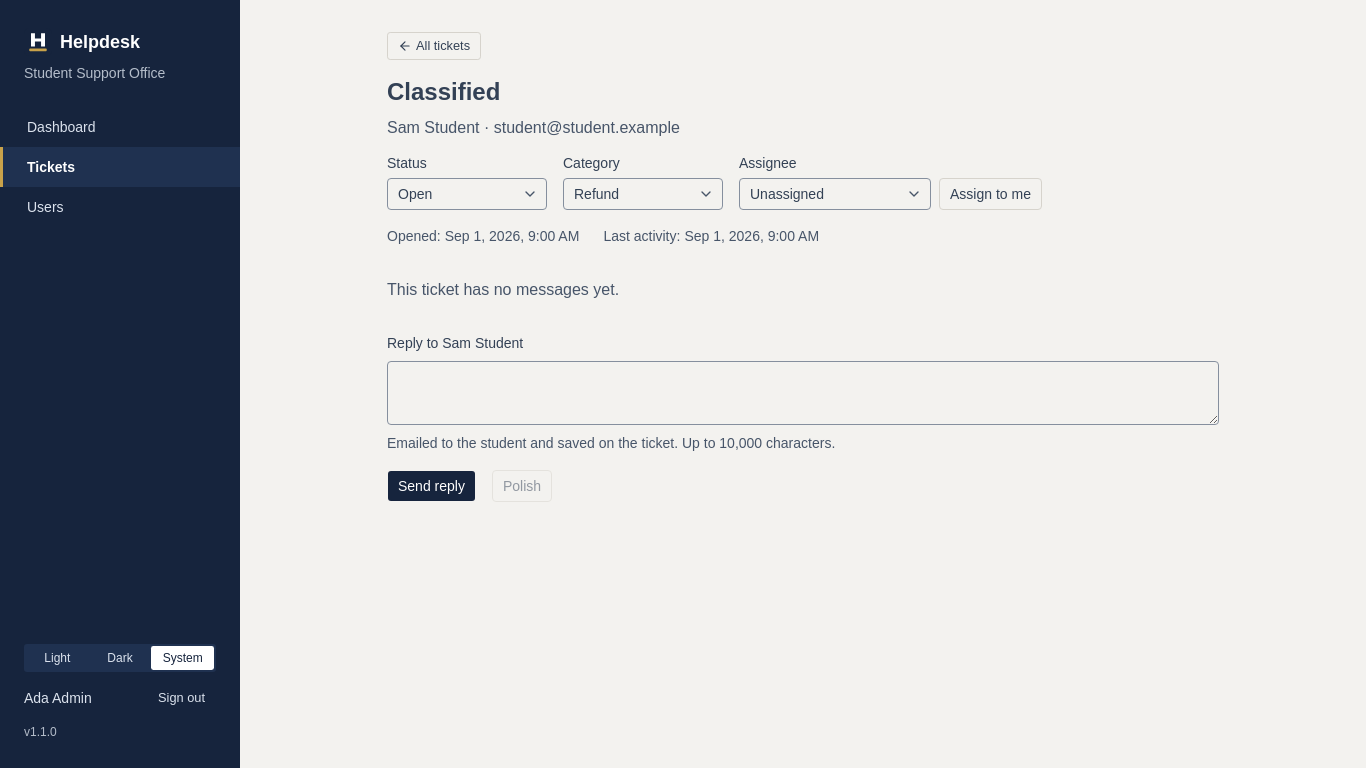
Test: a classified ticket is not offered unclassified at all
The width and height of the screenshot is (1366, 768).
Click the dropdown named "Category" at (643, 194), box [563,178,723,210]
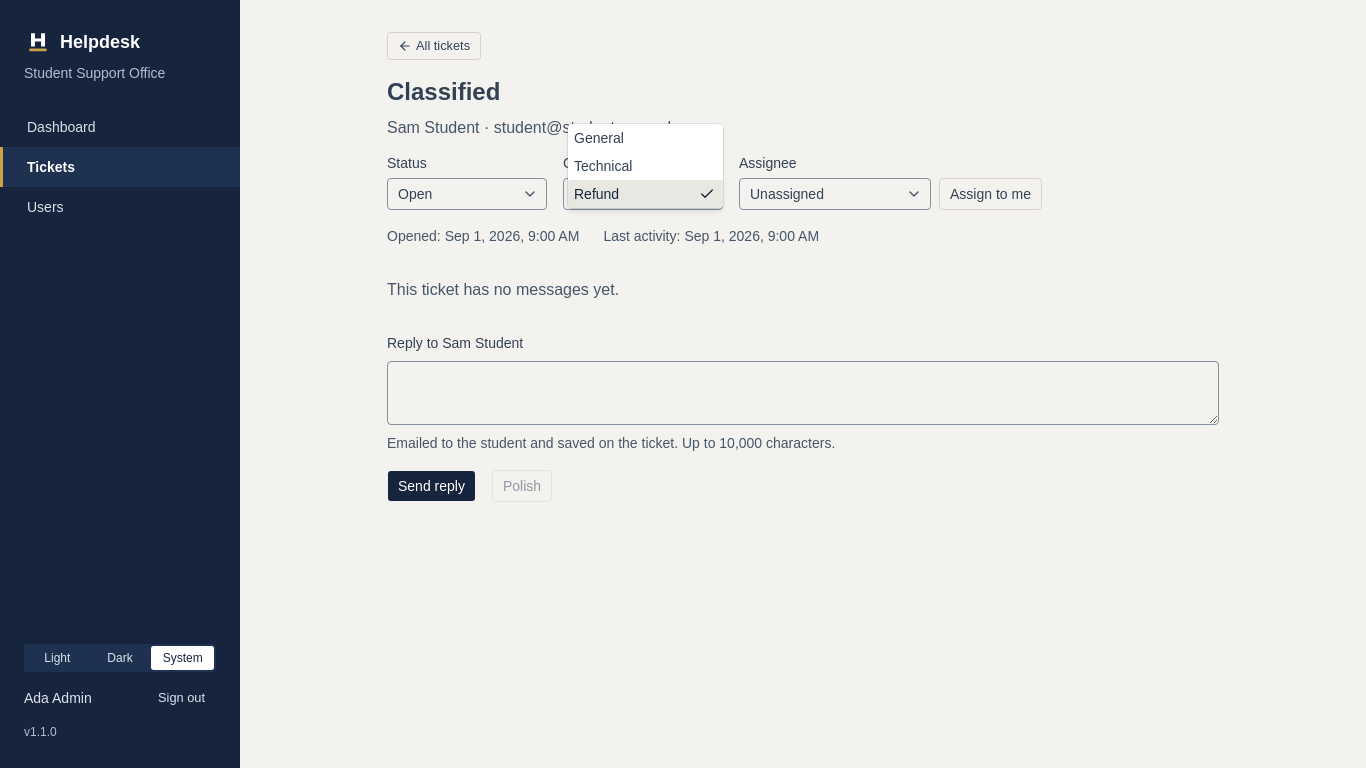
Check: the option "technical" is shown, box [574,158,632,174]
